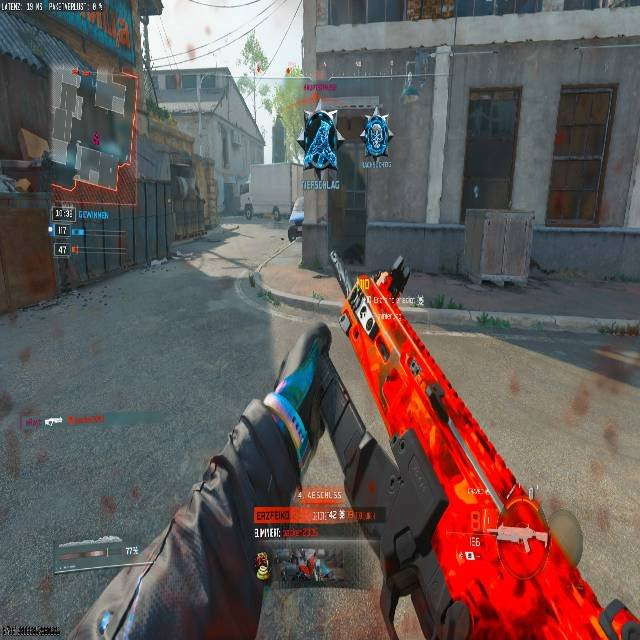player: (299, 107, 340, 170), (363, 112, 391, 161), (241, 195, 254, 219), (271, 205, 280, 223), (244, 202, 253, 220)
